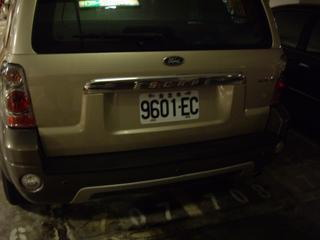plate: (136, 88, 201, 120)
